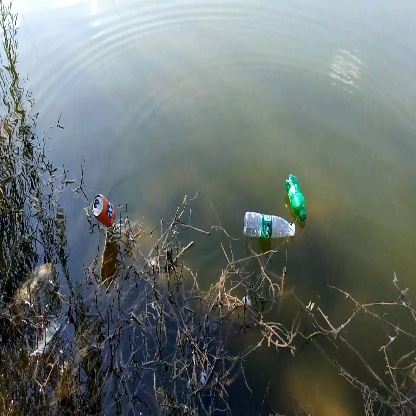bottle: (241, 208, 299, 242)
